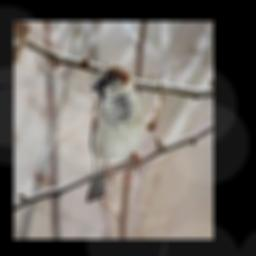Sparrow: (86, 64, 143, 201)
